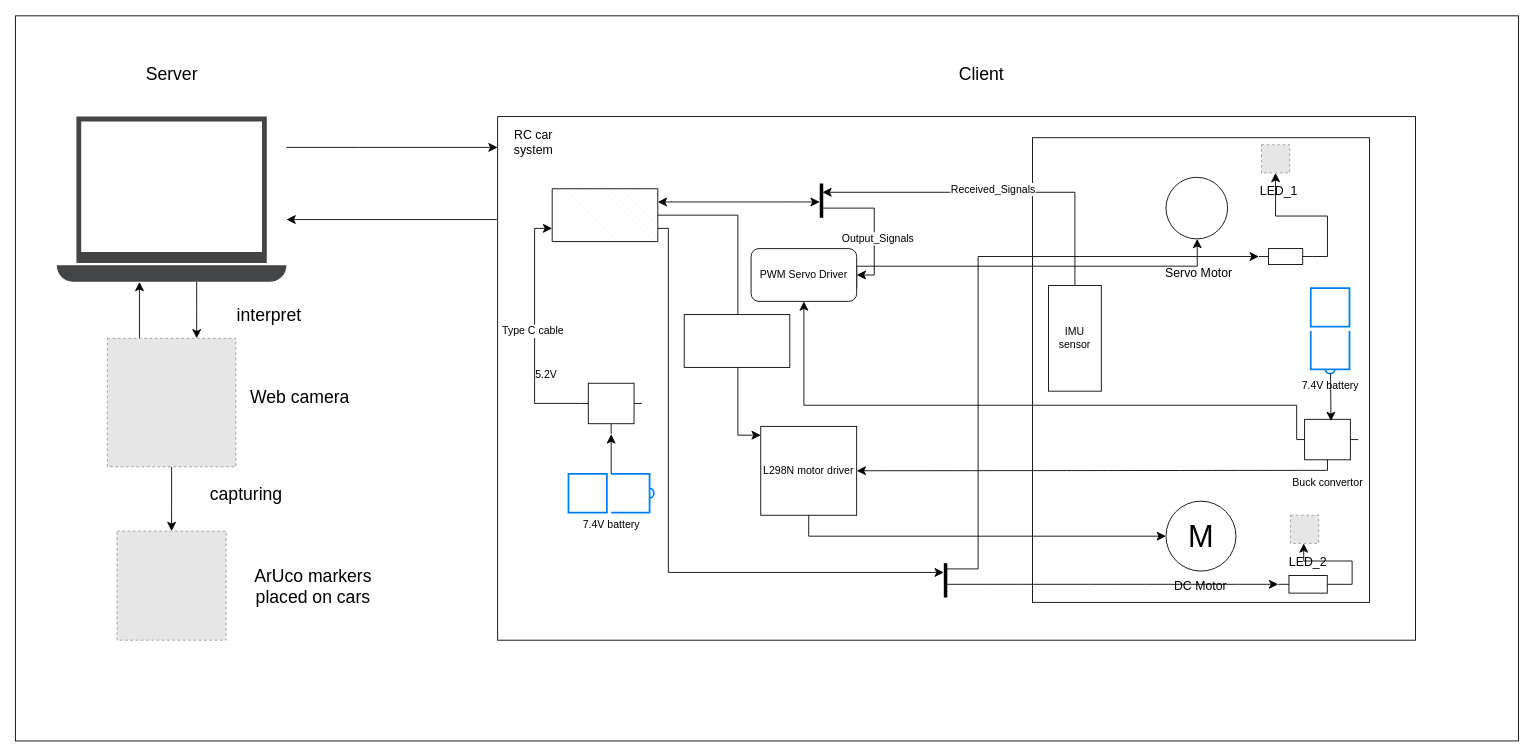
This 1534x756 diagram has some shape labels left out. Grey dashed boxes stand in for pictures. The shapes that lost their labels are listed below. From the top down, each one's centre as x and y in pixels, then its label:
At (171,199): "Computer".
At (604,215): "Raspberry Pi board".
At (1196,207): "SM".
At (610,408): "Voltage regulator".
